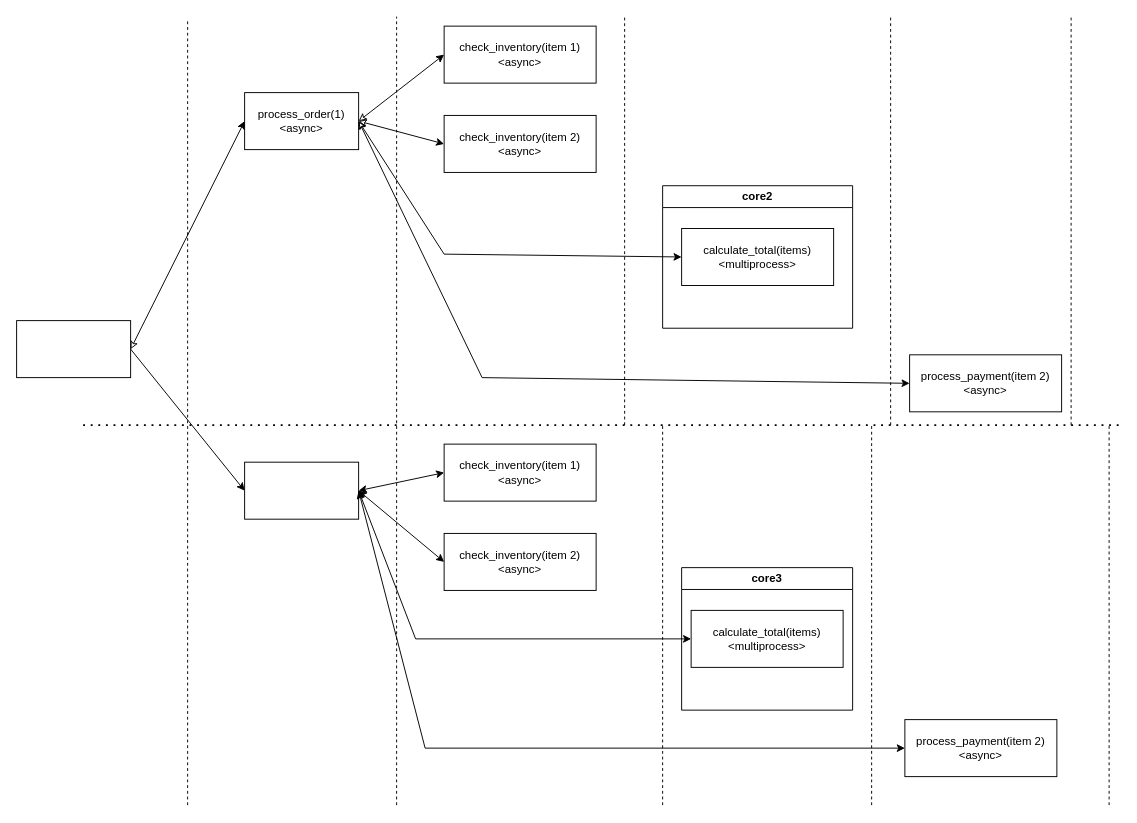
Some shapes in this 1137 by 823 pixel diagram are drawn without their labels. Here are the shapes that lost their labels. From the top down, the centre of each, then its label:
At (73,349): "main <async>".
At (301,490): "process_order(2) <async>".
